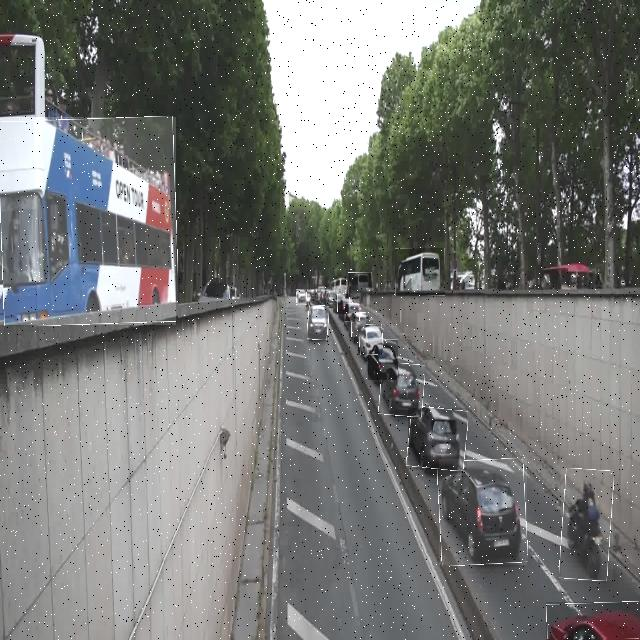Bus: (0, 117, 176, 325), (395, 248, 445, 296), (348, 272, 372, 293)
Car: (439, 459, 527, 565), (408, 408, 467, 470), (546, 602, 640, 640), (379, 364, 424, 416), (368, 339, 398, 380), (307, 306, 329, 340), (358, 325, 382, 355), (351, 312, 366, 337), (345, 304, 360, 322), (338, 294, 350, 314), (297, 289, 307, 305)
Motorcycle: (561, 469, 613, 581)
